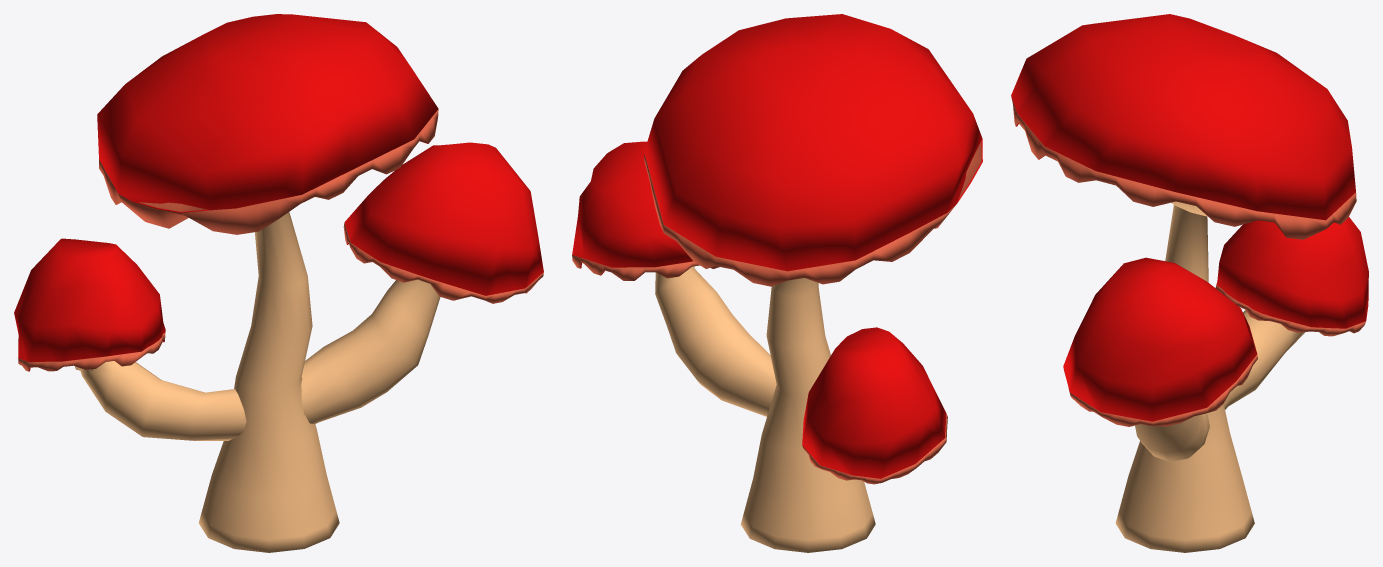
The model's file is grzyb.fbx.
3 renders of one model, left to right at view 1: azimuth 30°, elevation 25°; view 2: azimuth 150°, elevation 25°; view 3: azimuth 270°, elevation 25°, orthographic. The views are drawn at different scales.
Visible parts, largest first — view 1: Cylinder.004; view 2: Cylinder.004; view 3: Cylinder.004.
Part boxes in pixels (bbox=[...]): Cylinder.004: bbox=[14, 14, 543, 552]; Cylinder.004: bbox=[572, 14, 982, 552]; Cylinder.004: bbox=[1011, 14, 1368, 552].
Size of the model in its own units: 3.73 by 4.03 by 2.67.
